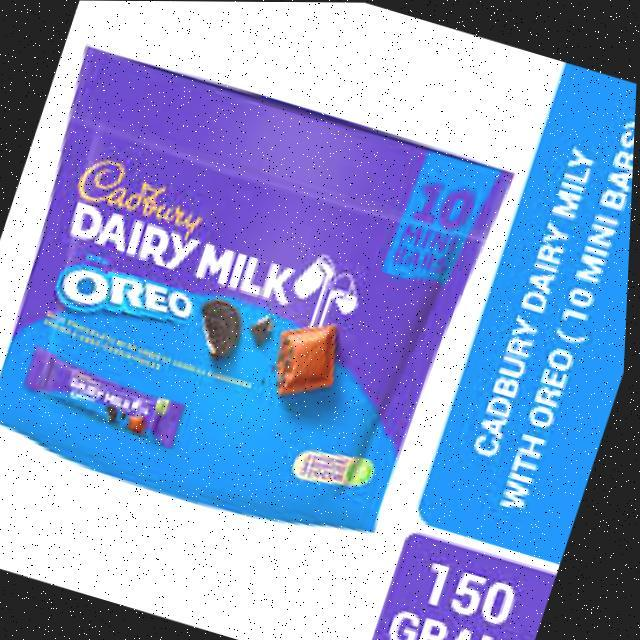cadbury_chocolate: (7, 52, 497, 543)
